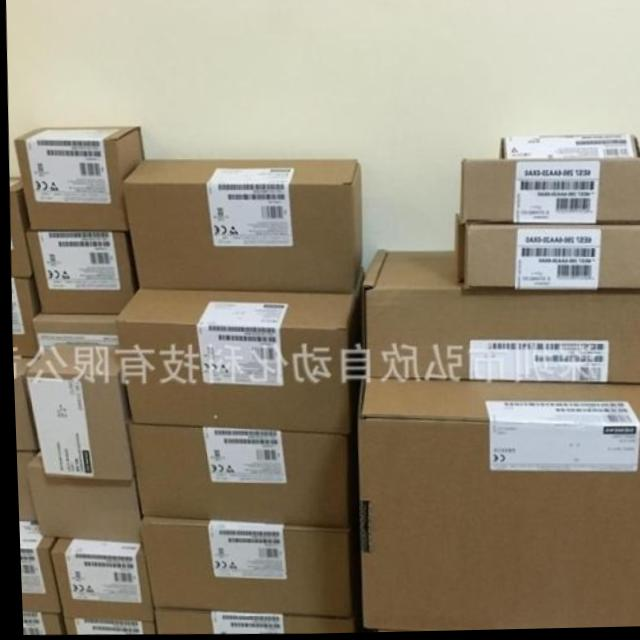box: (357, 376, 640, 632), (359, 250, 640, 388), (112, 288, 357, 434), (122, 159, 363, 292), (124, 419, 358, 526), (134, 516, 359, 620), (22, 343, 129, 480), (13, 126, 143, 233), (459, 223, 640, 297), (459, 157, 640, 226), (21, 450, 137, 543), (24, 231, 132, 314), (46, 539, 149, 623), (149, 603, 357, 633), (15, 520, 55, 613), (499, 138, 640, 161), (11, 358, 39, 450), (31, 314, 115, 344), (10, 278, 38, 359), (9, 177, 30, 277), (13, 450, 35, 520), (58, 619, 150, 632), (18, 609, 59, 633)
